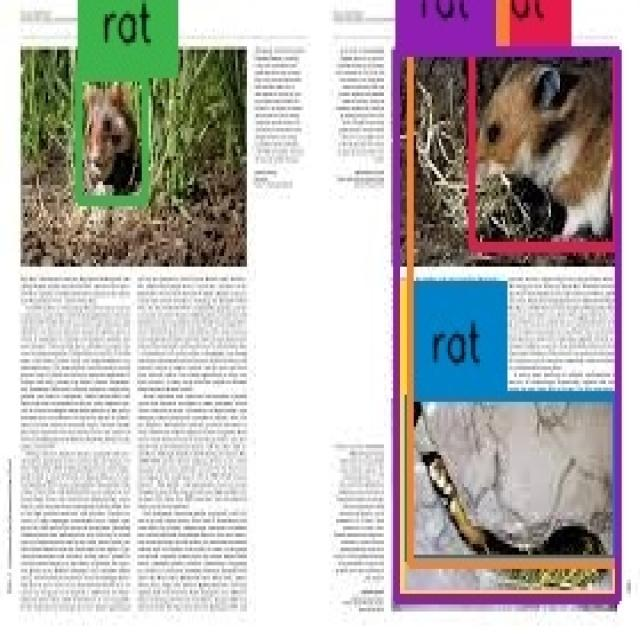rat: (398, 52, 617, 599), (411, 51, 618, 564), (401, 397, 616, 596), (409, 396, 617, 560), (471, 52, 617, 247), (78, 78, 146, 199)
